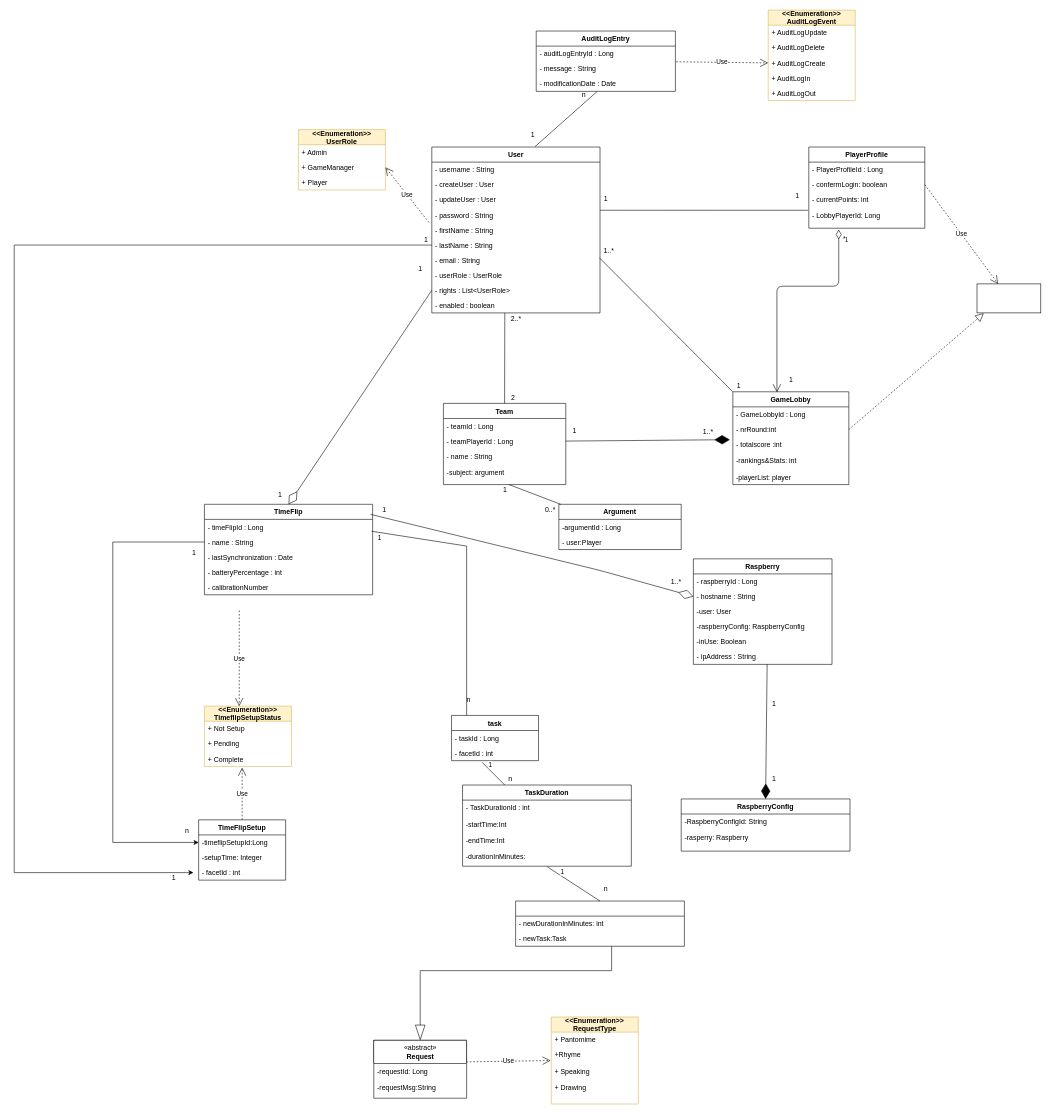
Some shapes in this 1051 by 1116 pixel diagram are drawn without their labels. Each missing label, with the box of its shape:
TaskRequest: (515, 900, 684, 946)
«interface» GUI: (976, 283, 1041, 313)
